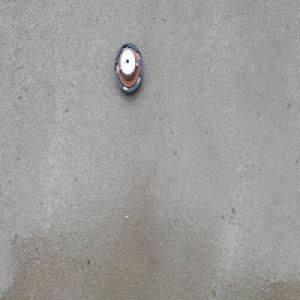FuelCap: (114, 42, 144, 95)
